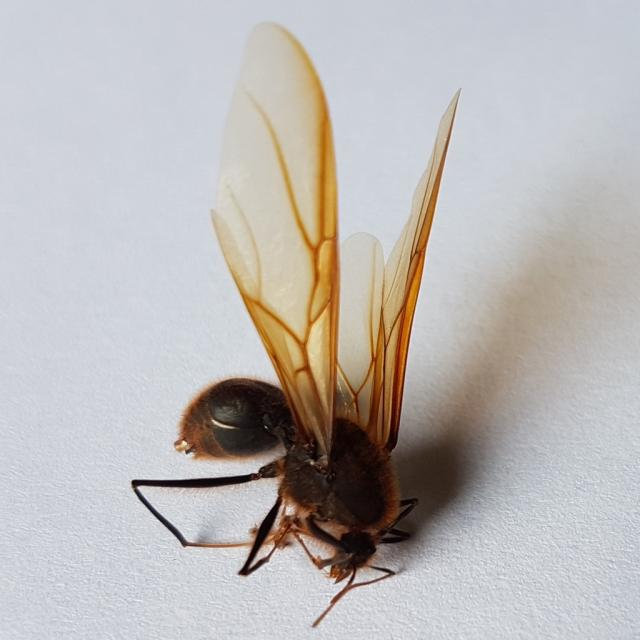Dead-Male-Alate: (130, 20, 462, 628)
